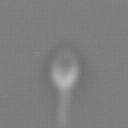normal: (48, 90, 80, 128)
